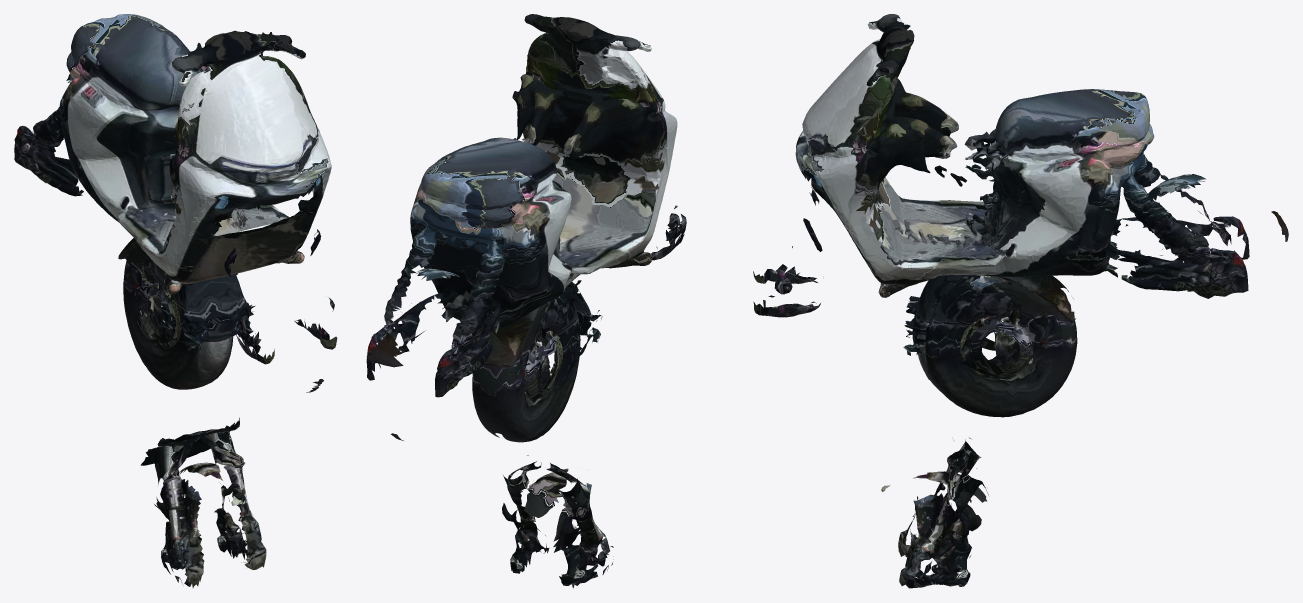
File: ev_body.glb
3 renders of one model, left to right at view 1: azimuth 30°, elevation 25°; view 2: azimuth 150°, elevation 25°; view 3: azimuth 270°, elevation 25°, orthographic.
Parts seen in each view (by area): view 1: body, wheelR, steer, seat, wheelF; view 2: body, wheelR, steer, seat, wheelF; view 3: body, wheelR, steer, seat, wheelF.
Boxes of the visible parts, left/top/right/bottom form: body: left=14, top=30, right=337, bottom=392; wheelR: left=118, top=238, right=255, bottom=389; steer: left=140, top=417, right=266, bottom=587; seat: left=73, top=14, right=202, bottom=102; wheelF: left=131, top=243, right=231, bottom=383; body: left=366, top=14, right=686, bottom=440; wheelR: left=472, top=280, right=602, bottom=442; steer: left=502, top=455, right=613, bottom=588; seat: left=421, top=137, right=554, bottom=213; wheelF: left=484, top=296, right=562, bottom=400; body: left=753, top=14, right=1288, bottom=317; wheelR: left=903, top=275, right=1077, bottom=417; steer: left=881, top=437, right=988, bottom=588; seat: left=998, top=89, right=1151, bottom=152; wheelF: left=917, top=276, right=1048, bottom=391.
Bounding box in the file's own units: 0.5371 × 1.94 × 1.85.
1 material, 1 textured.
